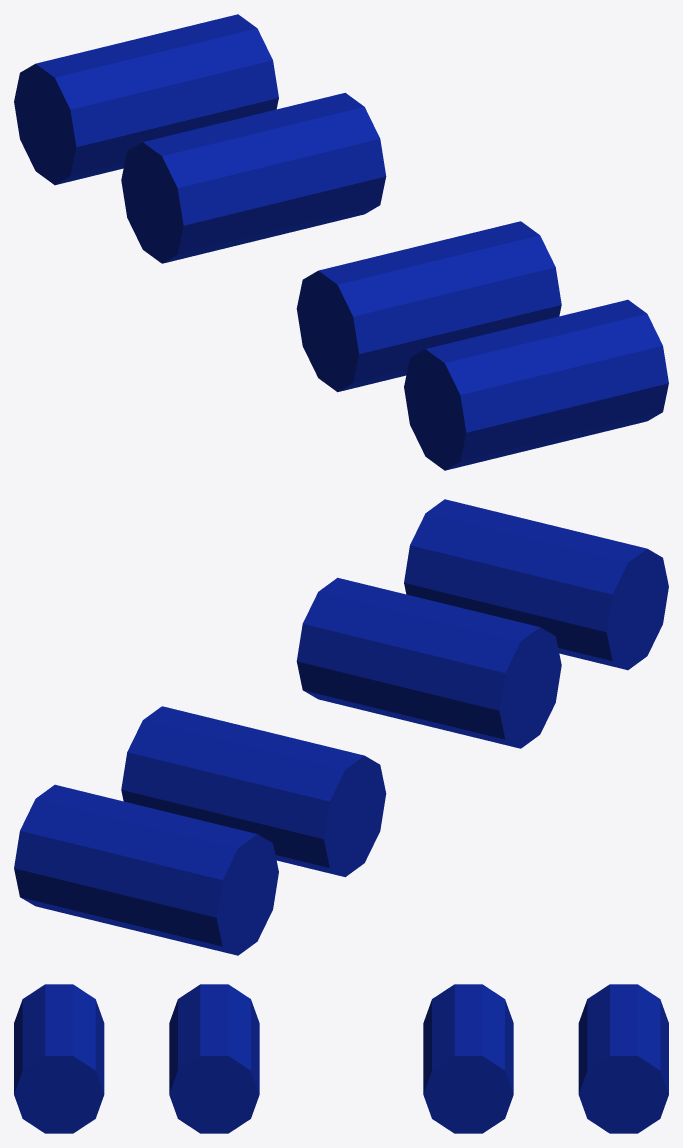
Rendered from destiny_lord_stern_stage9_refined_A.obj.
3 views of the same model, one above another, from view 1: azimuth 30°, elevation 25°; view 2: azimuth 150°, elevation 25°; view 3: azimuth 270°, elevation 25° (orthographic). The views are drawn at different scales.
Parts seen in each view (by area): view 1: DL_Engine_1_0, DL_Engine_-1_1, DL_Engine_-1_0, DL_Engine_1_1; view 2: DL_Engine_-1_0, DL_Engine_1_1, DL_Engine_-1_1, DL_Engine_1_0; view 3: DL_Engine_-1_1, DL_Engine_1_1, DL_Engine_-1_0, DL_Engine_1_0.
Boxes of the visible parts, x1,y1,x2,y2 form: DL_Engine_1_0: (121, 92, 386, 263); DL_Engine_-1_1: (404, 299, 668, 470); DL_Engine_-1_0: (296, 221, 561, 392); DL_Engine_1_1: (14, 14, 278, 185); DL_Engine_-1_0: (296, 577, 561, 748); DL_Engine_1_1: (14, 784, 278, 955); DL_Engine_-1_1: (404, 499, 668, 670); DL_Engine_1_0: (121, 706, 386, 877); DL_Engine_-1_1: (14, 984, 104, 1133); DL_Engine_1_1: (578, 984, 668, 1133); DL_Engine_-1_0: (169, 984, 259, 1133); DL_Engine_1_0: (423, 984, 513, 1133).
Size of the model in its own units: 6 by 3.04 by 23.2.
